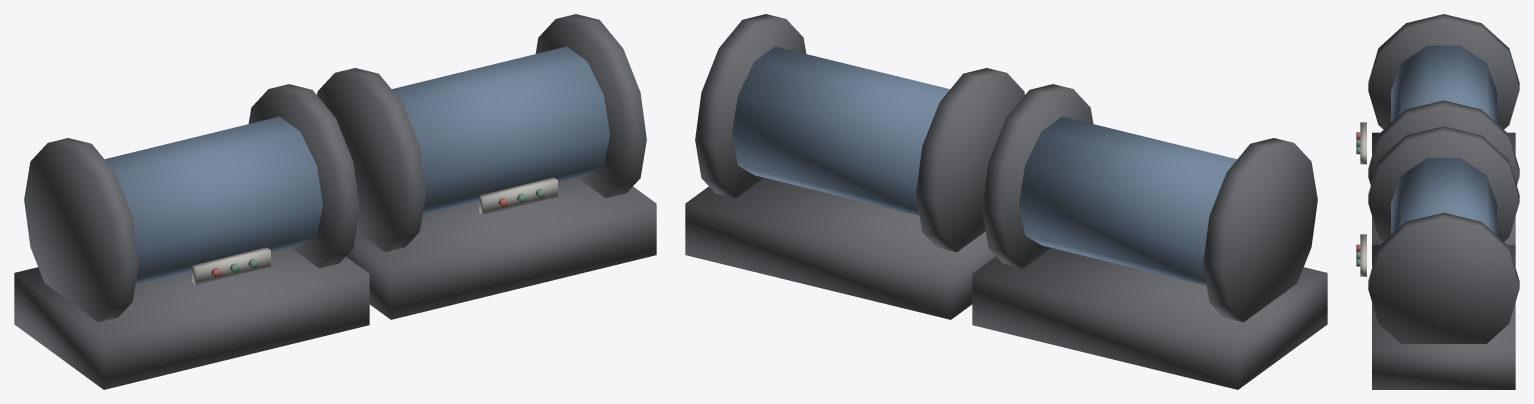
Rendered from bench_grinder__cluster.glb.
3 renders of one model, left to right at view 1: azimuth 30°, elevation 25°; view 2: azimuth 150°, elevation 25°; view 3: azimuth 270°, elevation 25°, orthographic. The views are drawn at different scales.
Visible parts, largest first — view 1: world; view 2: world; view 3: world.
Part boxes in pixels (x1,y1,x2,y2): world: (14,14,656,389); world: (685,14,1327,389); world: (1356,14,1519,389).
Size of the model in its own units: 1.35 by 0.48 by 0.431.
